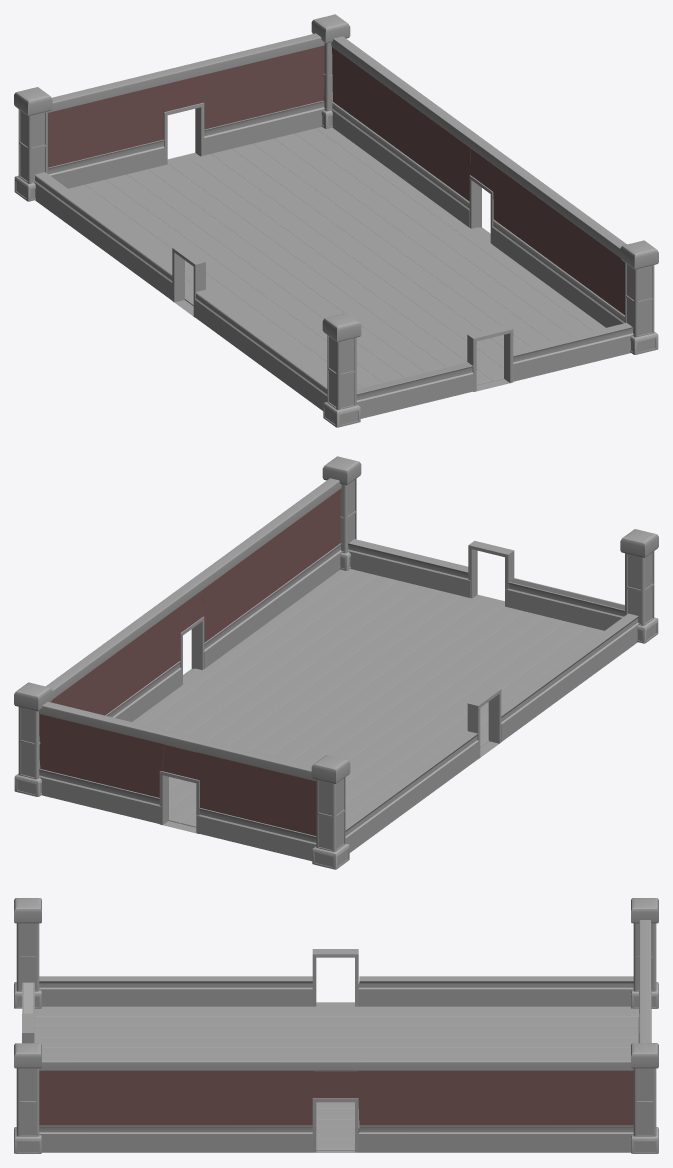
The model's file is kitchen.fbx.
3 renders of one model, top to bottom at view 1: azimuth 30°, elevation 25°; view 2: azimuth 150°, elevation 25°; view 3: azimuth 270°, elevation 25°, orthographic.
Visible parts, largest first — view 1: Wall58, Wall57, Wall53, Wall54, Floor12, Floor11, Floor16, Floor17, Floor10, Floor15, Floor13, Floor14 (+17 smaller); view 2: Wall57, Wall53, Wall54, Wall58, Floor12, Floor13, Wall56, Wall55, Floor11, Floor7, Floor14, Floor17 (+17 smaller); view 3: Wall58, Wall57, Wall55, Wall56, Floor7, Floor5, Floor8, Floor9, Floor6, Pillar6, Pillar8, Pillar7 (+11 smaller).
Boxes of the visible parts, left/top/right/bottom form: Wall58: left=331, top=36, right=500, bottom=227; Wall57: left=491, top=152, right=626, bottom=327; Wall53: left=165, top=33, right=324, bottom=155; Wall54: left=48, top=70, right=170, bottom=188; Floor12: left=190, top=154, right=503, bottom=381; Floor11: left=169, top=159, right=492, bottom=385; Floor16: left=274, top=133, right=571, bottom=341; Floor17: left=295, top=128, right=592, bottom=335; Floor10: left=148, top=164, right=445, bottom=371; Floor15: left=253, top=138, right=550, bottom=346; Floor13: left=211, top=149, right=503, bottom=368; Floor14: left=232, top=143, right=529, bottom=350; Wall57: left=194, top=478, right=341, bottom=668; Wall53: left=39, top=701, right=198, bottom=824; Wall54: left=193, top=738, right=316, bottom=861; Wall58: left=46, top=578, right=202, bottom=721; Floor12: left=168, top=596, right=482, bottom=823; Floor13: left=169, top=591, right=461, bottom=809; Wall56: left=501, top=613, right=638, bottom=741; Wall55: left=345, top=731, right=478, bottom=852; Floor11: left=180, top=601, right=503, bottom=827; Floor7: left=345, top=621, right=586, bottom=803; Floor14: left=169, top=586, right=440, bottom=789; Floor17: left=145, top=570, right=377, bottom=730; Wall58: left=315, top=1057, right=633, bottom=1151; Wall57: left=39, top=1057, right=315, bottom=1151; Wall55: left=358, top=976, right=633, bottom=1006; Wall56: left=39, top=976, right=312, bottom=1006; Floor7: left=34, top=1027, right=638, bottom=1037; Floor5: left=34, top=1006, right=638, bottom=1016; Floor8: left=34, top=1037, right=638, bottom=1047; Floor9: left=42, top=1047, right=630, bottom=1057; Floor6: left=34, top=1017, right=638, bottom=1026; Pillar6: left=631, top=1043, right=658, bottom=1153; Pillar8: left=14, top=1043, right=41, bottom=1153; Pillar7: left=14, top=898, right=41, bottom=1008.
Bounding box in the file's own units: 10.55 × 3.26 × 18.32.
